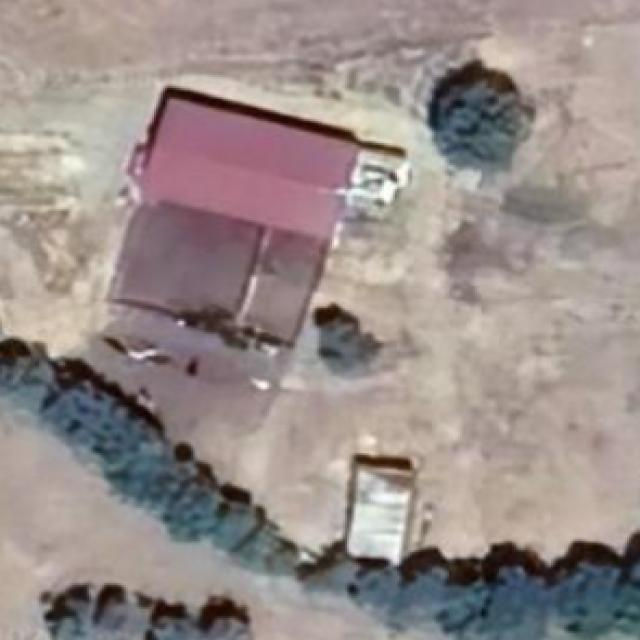Batiment: (111, 88, 404, 344)
